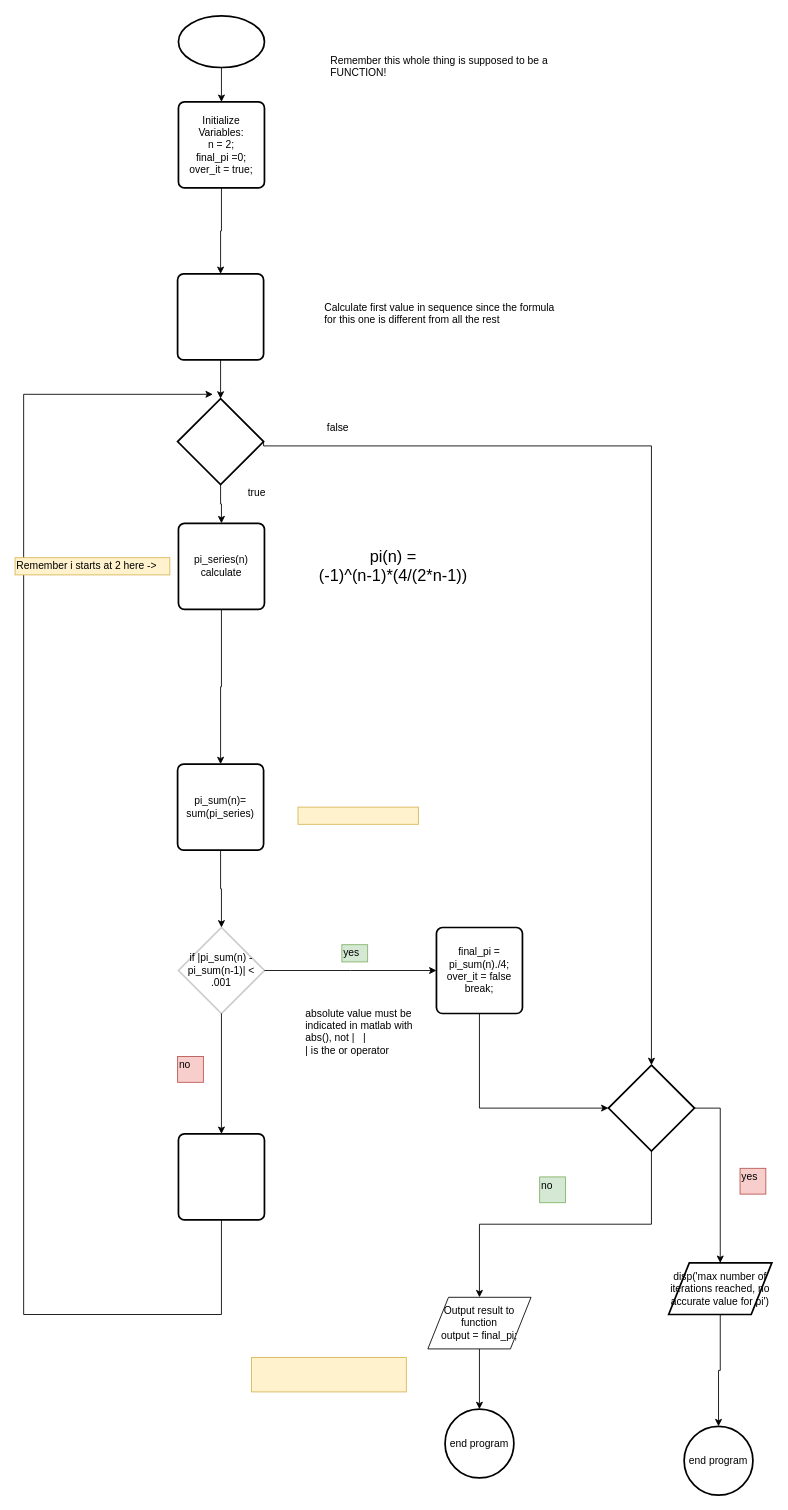
Some shapes in this 788 by 1510 pixel diagram are drawn without their labels. The shapes that lost their labels are listed below. From the top down, each one's centre as x and y in pixels, then its label:
At point 221,41: "Start".
At point 220,316: "pi_series = 1; pi_sum = 1;".
At point 220,441: "While( n <= 3002)".
At point 357,815: "< -Sum the whole series".
At point 651,1108: "if over_it == true".
At point 221,1176: "n = n + 1".
At point 328,1374: "Final Output will be pi/4! not pi! Can use other formula for that".
